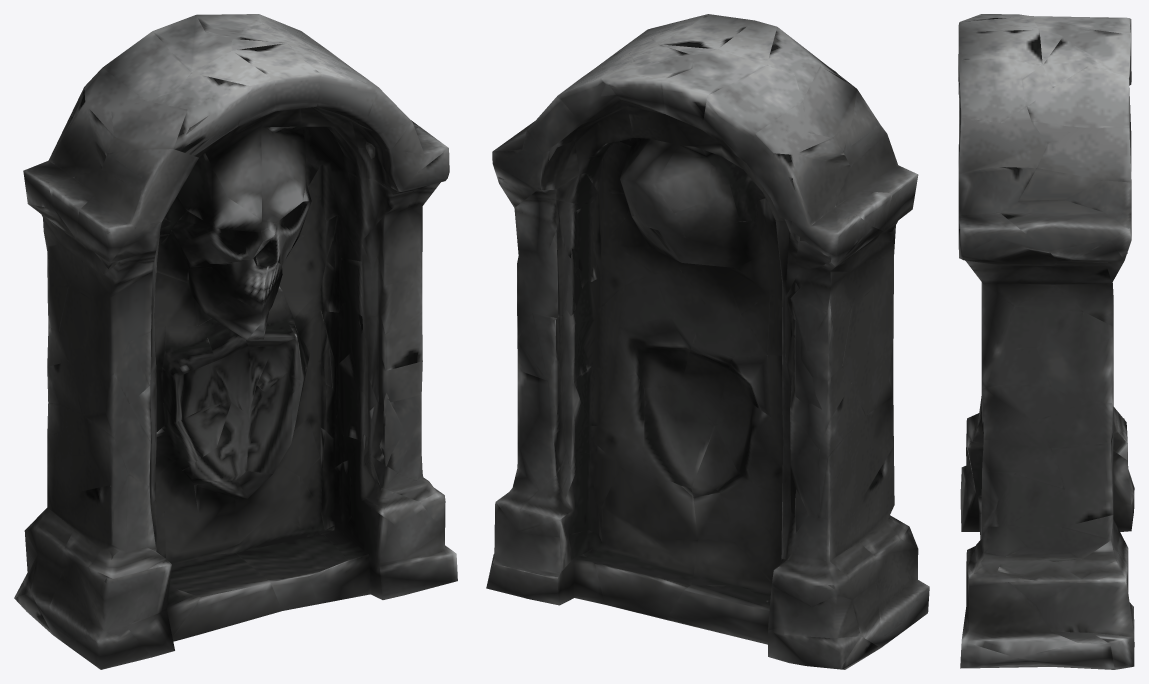
Rendered from crypt_door_sealed.glb.
3 views of the same model, side by side, from view 1: azimuth 30°, elevation 25°; view 2: azimuth 150°, elevation 25°; view 3: azimuth 270°, elevation 25° (orthographic).
Bounding box in the file's own units: 1.37 × 2 × 0.58.
1 material, 1 textured.
